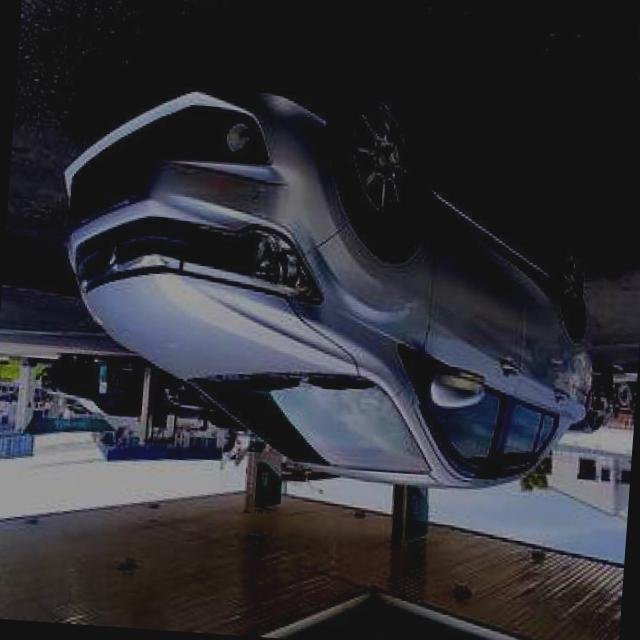PeroduaBezza: (40, 69, 612, 501)
